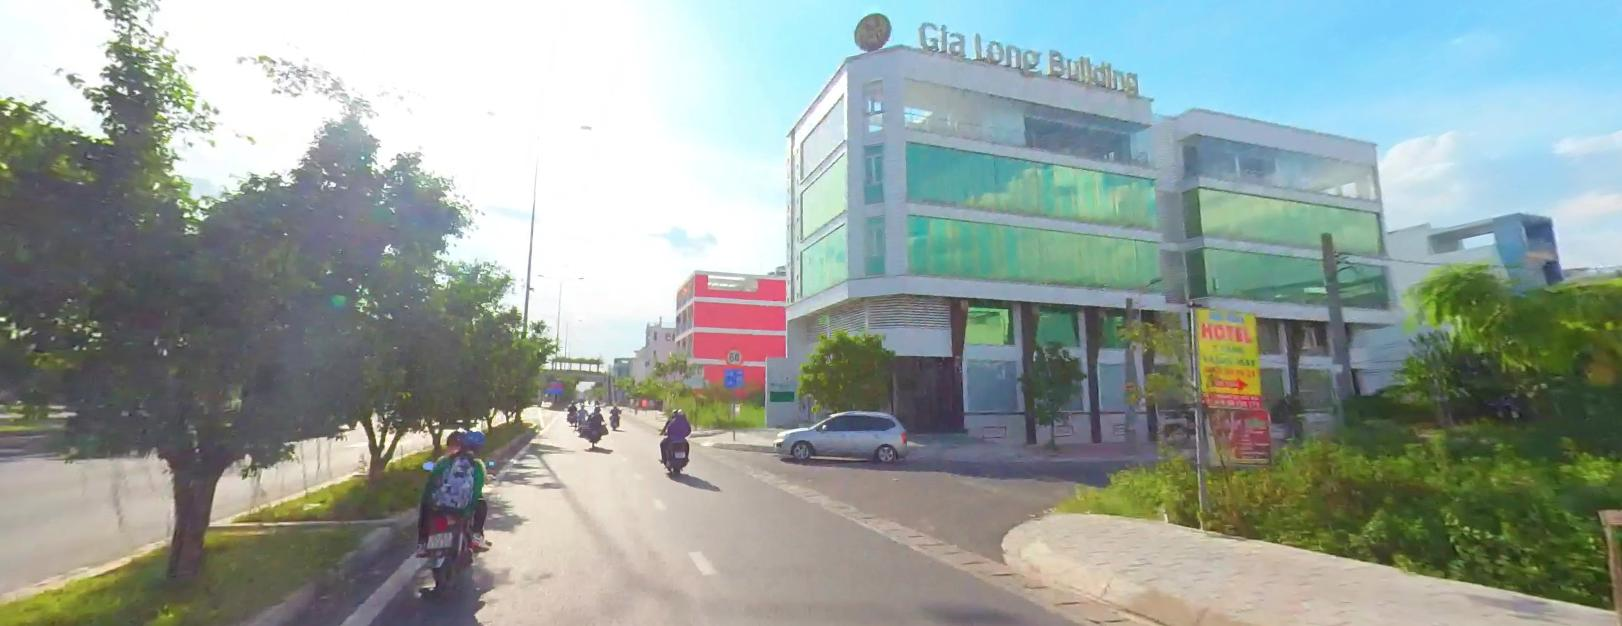Gioi han toc do: (724, 346, 745, 364), (725, 348, 743, 365)
